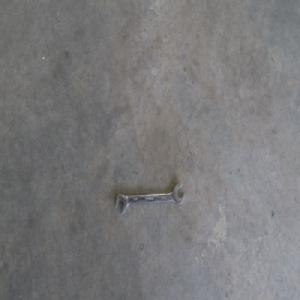Wrench: (116, 182, 184, 210)
